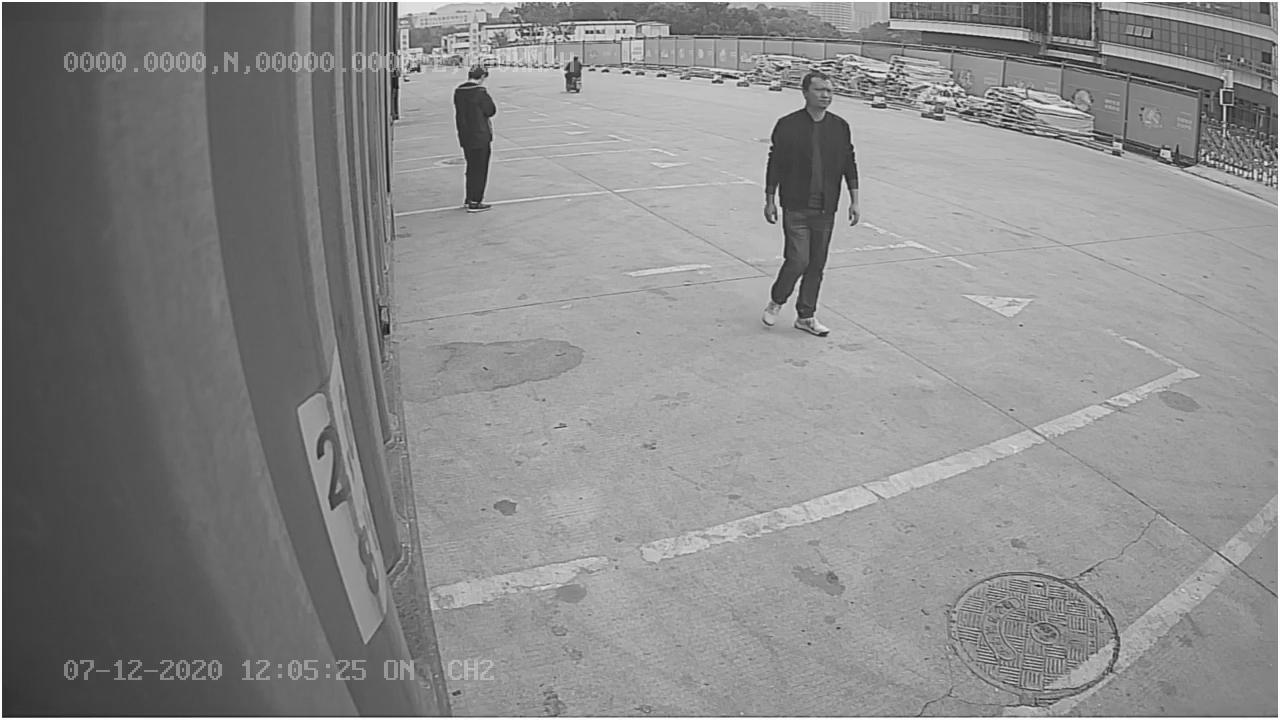person: (748, 67, 867, 338)
